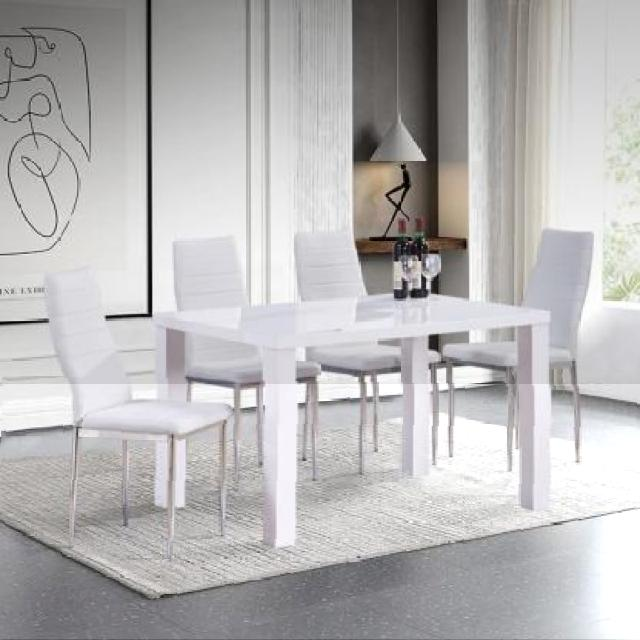floor: (0, 384, 640, 640)
